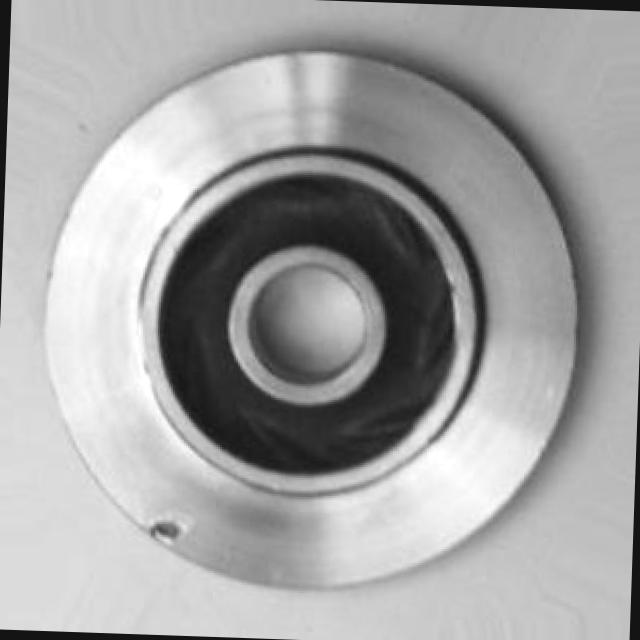Defect: (146, 511, 185, 551)
